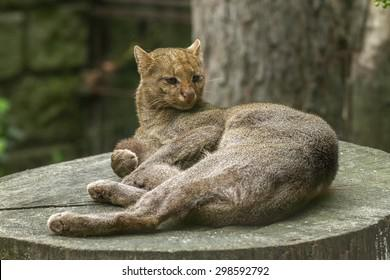Jaguarundi: (38, 38, 348, 242)
